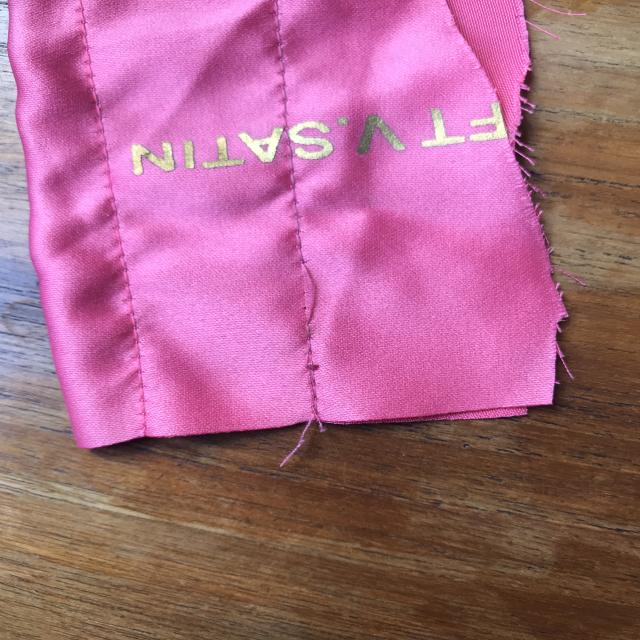skip: (282, 246, 334, 336)
